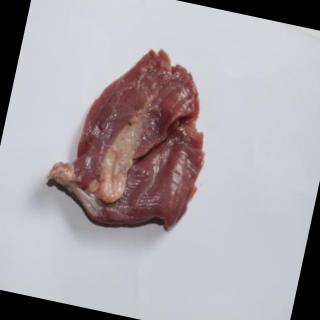Daging Sapi: (43, 34, 226, 245)
